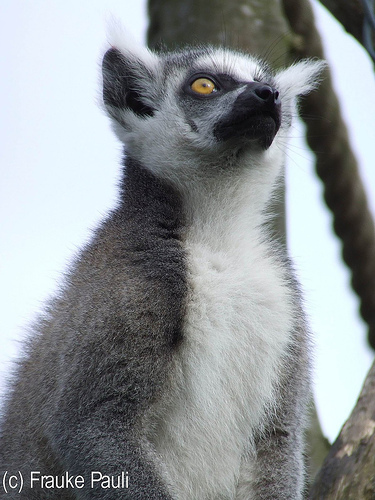cat: (0, 15, 330, 498)
